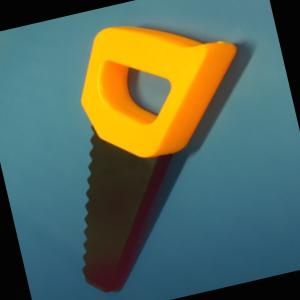serrote: (28, 0, 284, 299)
